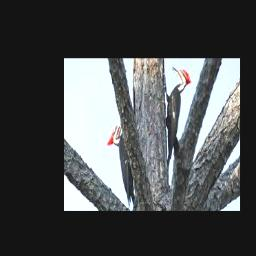Woodpecker: (163, 67, 191, 167), (107, 115, 135, 207)
